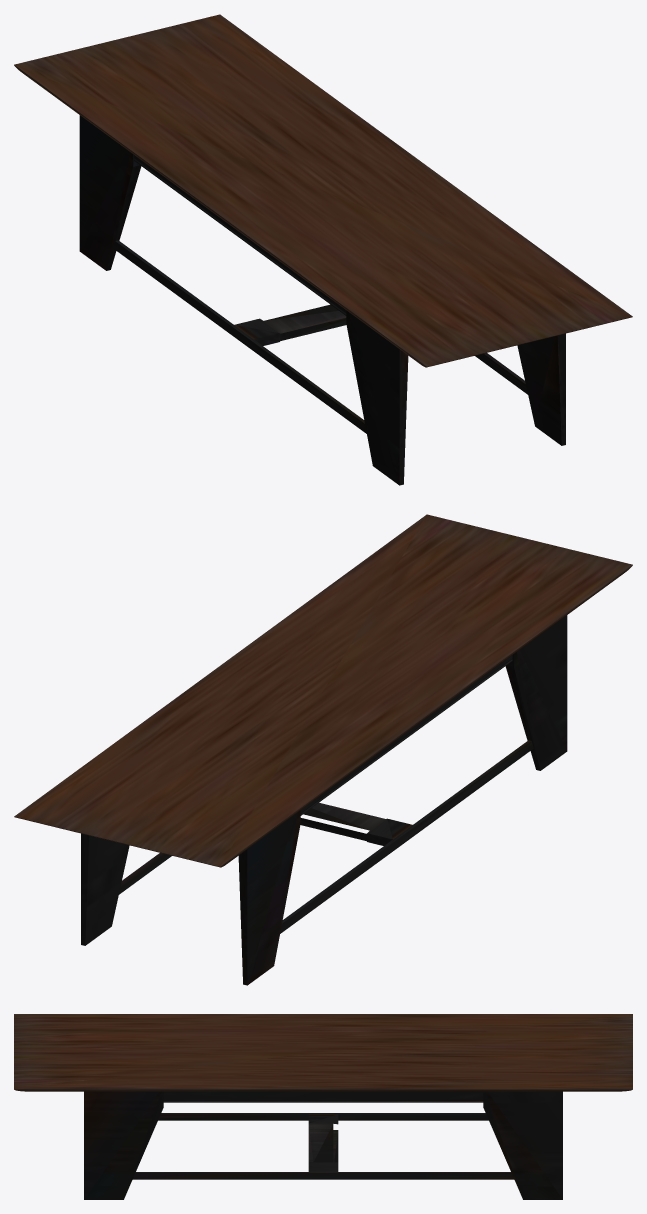
Rendered from table_4.glb.
The picture shows the model from 3 angles, top to bottom: view 1: azimuth 30°, elevation 25°; view 2: azimuth 150°, elevation 25°; view 3: azimuth 270°, elevation 25°; orthographic projection. The views are drawn at different scales.
Parts seen in each view (by area): view 1: table_4; view 2: table_4; view 3: table_4.
Boxes of the visible parts, box(x1,y1,x2,y2) form: table_4: box(14, 14, 632, 485); table_4: box(14, 514, 632, 985); table_4: box(14, 1014, 632, 1199).
Size of the model in its own units: 1.95 by 1.42 by 6.76.
Materials: 1 (1 with a texture image).
